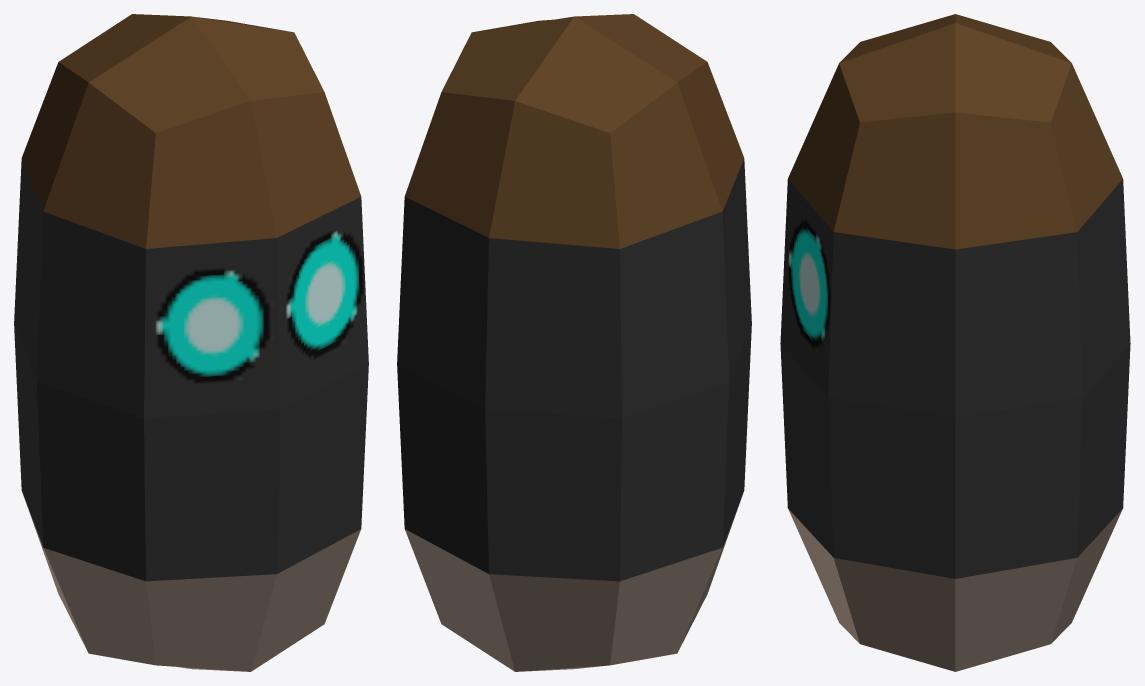
File: player.fbx
The picture shows the model from 3 angles, left to right: view 1: azimuth 30°, elevation 25°; view 2: azimuth 150°, elevation 25°; view 3: azimuth 270°, elevation 25°; orthographic projection. The views are drawn at different scales.
Visible parts, largest first — view 1: Cube; view 2: Cube; view 3: Cube.
Boxes of the visible parts, x1,y1,x2,y2 form: Cube: (14, 14, 368, 671); Cube: (397, 14, 751, 671); Cube: (780, 14, 1130, 671).
Size of the model in its own units: 1.83 by 3.7 by 1.83.
1 material, 1 textured.
